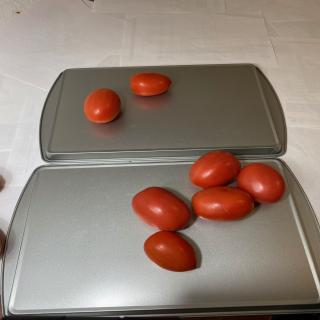Tomato: (131, 186, 191, 232), (192, 186, 254, 222), (143, 231, 197, 272), (236, 162, 286, 204), (189, 150, 241, 189), (84, 88, 121, 124), (130, 72, 172, 96)
